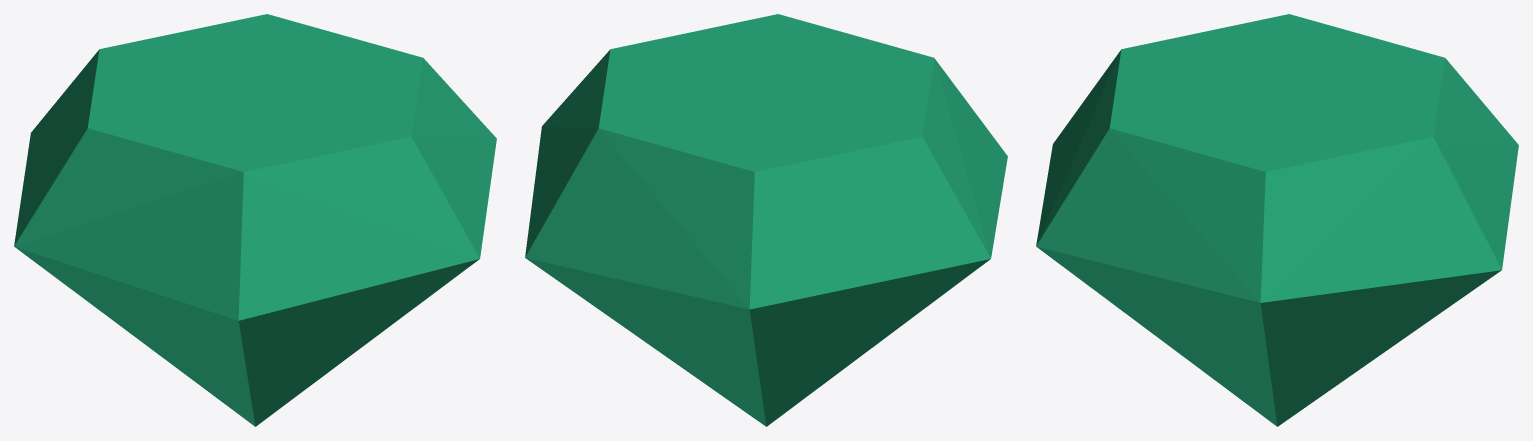
The model's file is 1_Pellet.obj.
3 views of the same model, side by side, from view 1: azimuth 30°, elevation 25°; view 2: azimuth 150°, elevation 25°; view 3: azimuth 270°, elevation 25° (orthographic).
Parts seen in each view (by area): view 1: Pellet.000_Crystal5_Cylinder.035; view 2: Pellet.000_Crystal5_Cylinder.035; view 3: Pellet.000_Crystal5_Cylinder.035.
Boxes of the visible parts, x1,y1,x2,y2 form: Pellet.000_Crystal5_Cylinder.035: (14,14,496,426); Pellet.000_Crystal5_Cylinder.035: (525,14,1007,426); Pellet.000_Crystal5_Cylinder.035: (1036,14,1518,426).
Bounding box in the file's own units: 0.6292 × 0.4308 × 0.5646.
